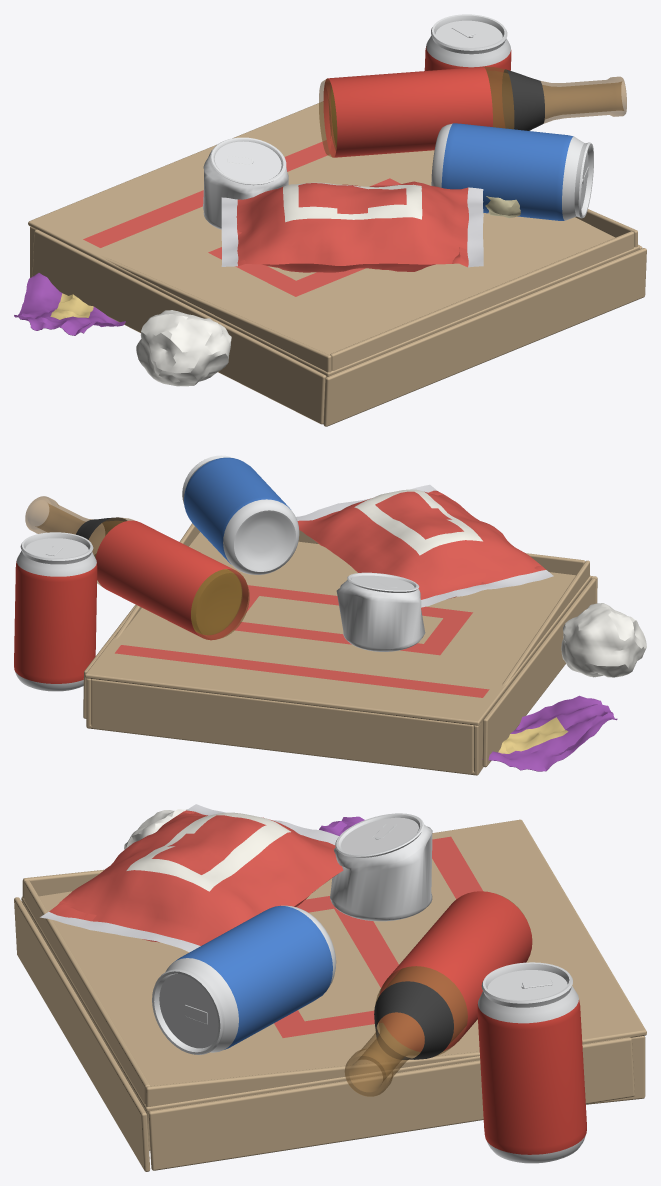
File: kitchen_rubbish_pile_a.fbx
3 renders of one model, top to bottom at view 1: azimuth 30°, elevation 25°; view 2: azimuth 150°, elevation 25°; view 3: azimuth 270°, elevation 25°, orthographic. The views are drawn at different scales.
Visible parts, largest first — view 1: kitchen_rubbish_pile_a; view 2: kitchen_rubbish_pile_a; view 3: kitchen_rubbish_pile_a.
Part boxes in pixels (x1,y1,x2,y2): kitchen_rubbish_pile_a: [14, 14, 646, 426]; kitchen_rubbish_pile_a: [14, 455, 646, 775]; kitchen_rubbish_pile_a: [14, 804, 646, 1171].
Bounding box in the file's own units: 0.5373 × 0.1329 × 0.4061.
